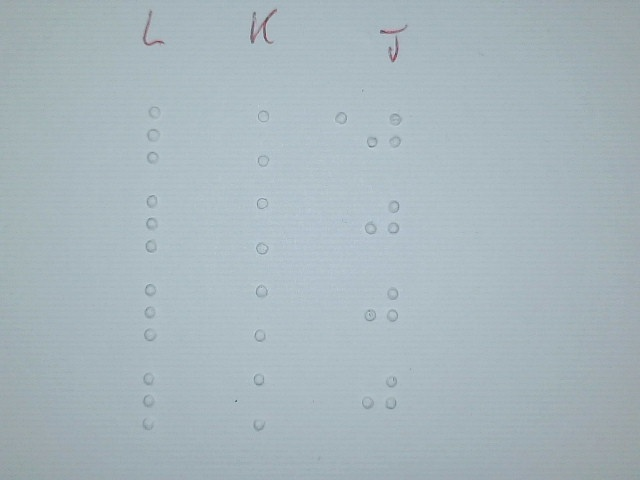J: (363, 105, 404, 166), (361, 192, 402, 253), (363, 278, 401, 336), (360, 367, 398, 425)
K: (249, 107, 290, 168), (248, 195, 289, 256), (247, 282, 288, 343), (246, 370, 287, 431)
L: (138, 104, 179, 165), (137, 193, 178, 254), (136, 282, 177, 343), (135, 370, 176, 431)
